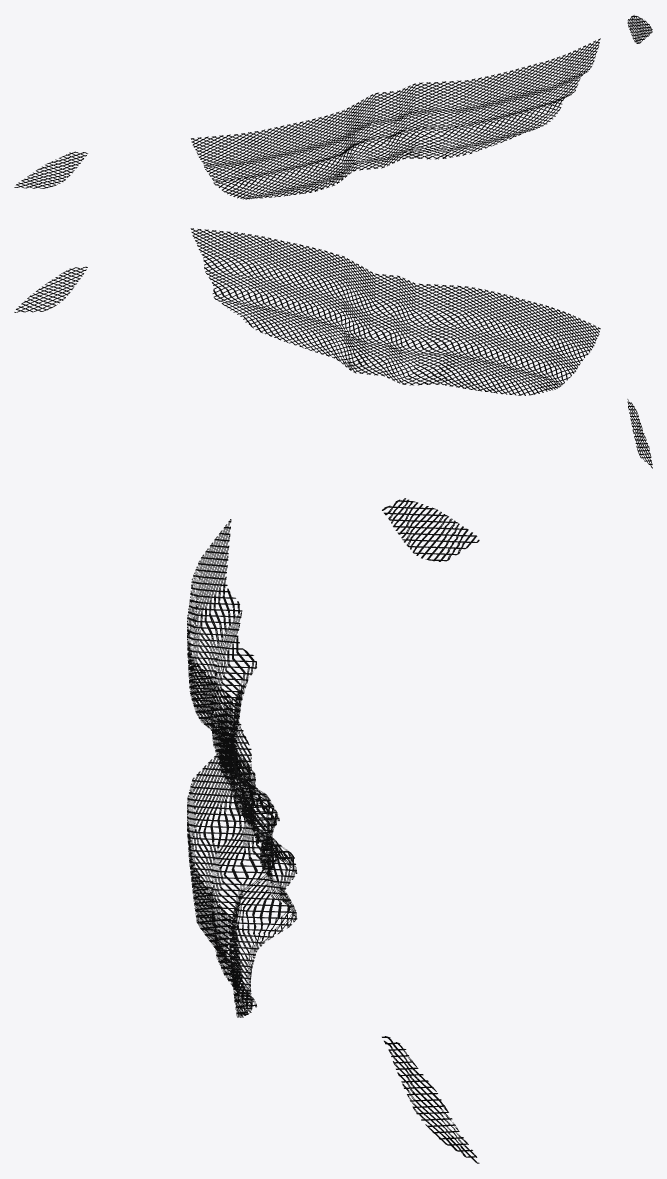
The model's file is ZG01_zunsport_grille_black.glb.
The picture shows the model from 3 angles, top to bottom: view 1: azimuth 30°, elevation 25°; view 2: azimuth 150°, elevation 25°; view 3: azimuth 270°, elevation 25°; orthographic projection. The views are drawn at different scales.
Parts seen in each view (by area): view 1: MOD_ND_ZG01_mouth, MOD_ND_ZG01_lower_R, MOD_ND_ZG01_lower_L; view 2: MOD_ND_ZG01_mouth, MOD_ND_ZG01_lower_L, MOD_ND_ZG01_lower_R; view 3: MOD_ND_ZG01_mouth, MOD_ND_ZG01_lower_R, MOD_ND_ZG01_lower_L.
Boxes of the visible parts, x1,y1,x2,y2 form: MOD_ND_ZG01_mouth: (191, 38, 600, 199); MOD_ND_ZG01_lower_R: (14, 151, 87, 188); MOD_ND_ZG01_lower_L: (627, 15, 652, 43); MOD_ND_ZG01_mouth: (190, 228, 600, 395); MOD_ND_ZG01_lower_L: (14, 266, 87, 312); MOD_ND_ZG01_lower_R: (627, 399, 652, 468); MOD_ND_ZG01_mouth: (187, 519, 297, 1017); MOD_ND_ZG01_lower_R: (382, 498, 479, 561); MOD_ND_ZG01_lower_L: (382, 1036, 479, 1163).
Size of the model in its own units: 1.45 by 0.192 by 0.2878.
1 material, 1 textured.
